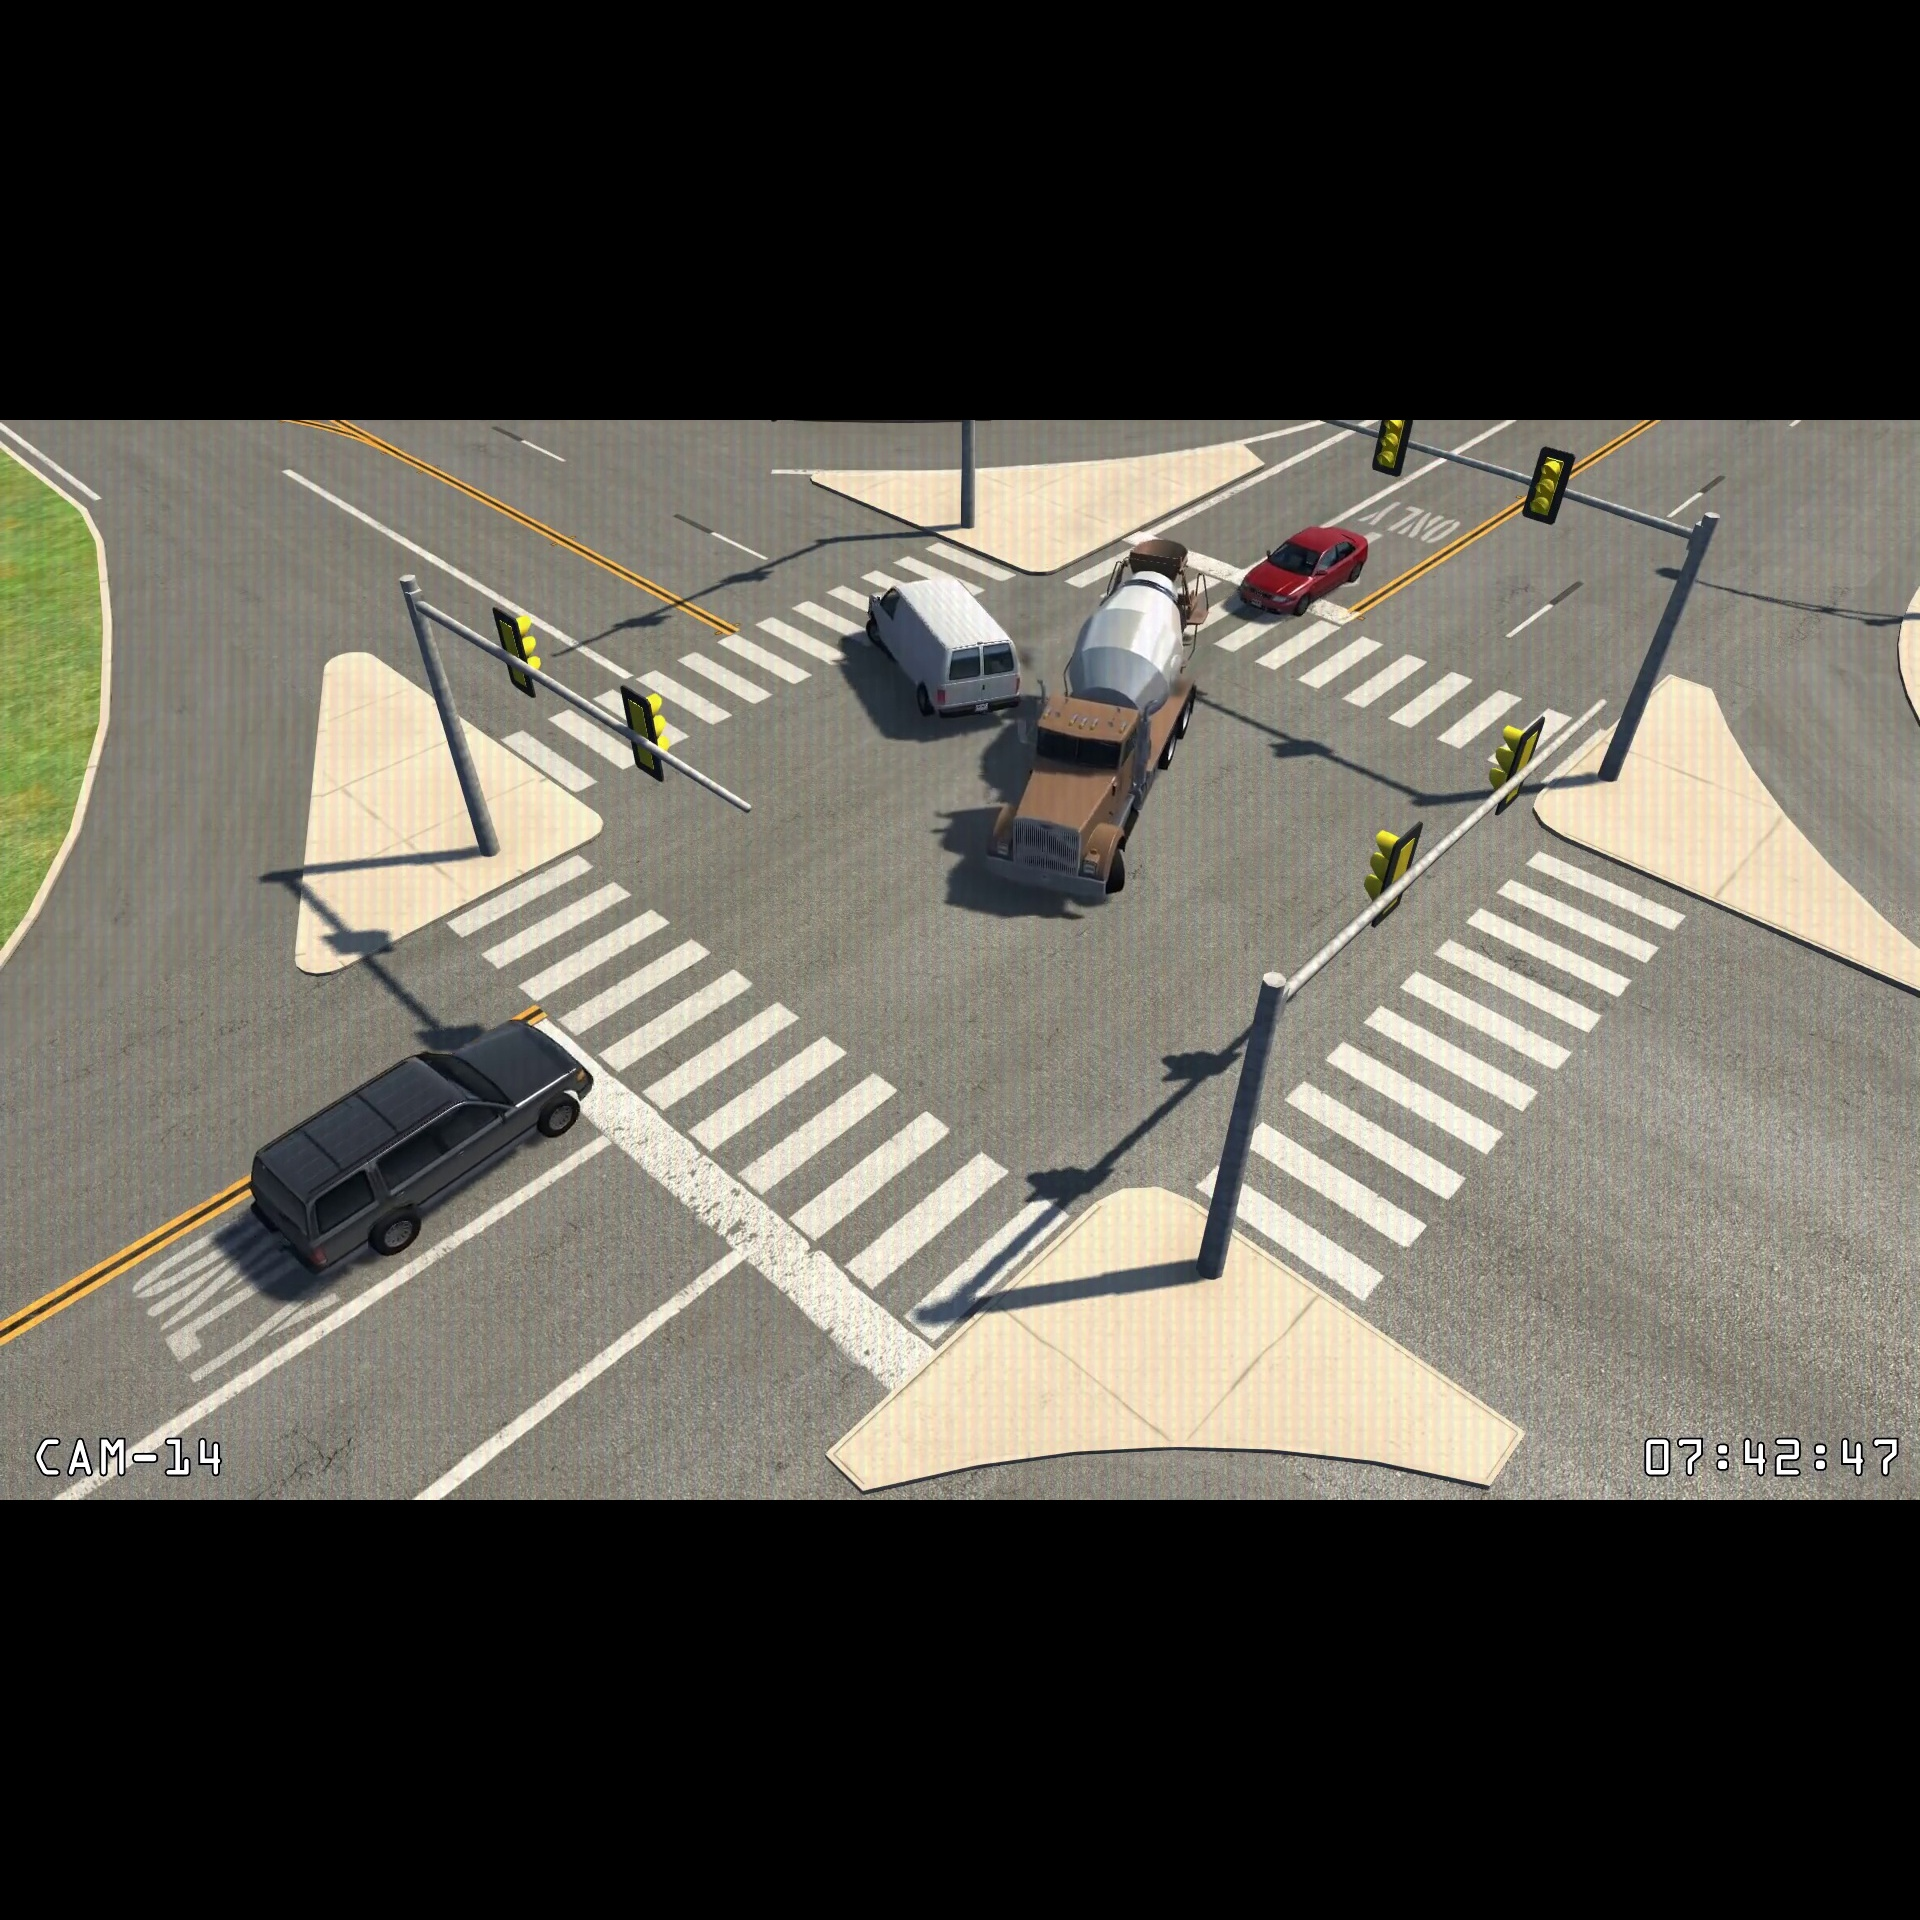vehicle: (234, 1013, 603, 1284), (978, 529, 1211, 905), (856, 568, 1029, 730), (1234, 515, 1380, 626)
